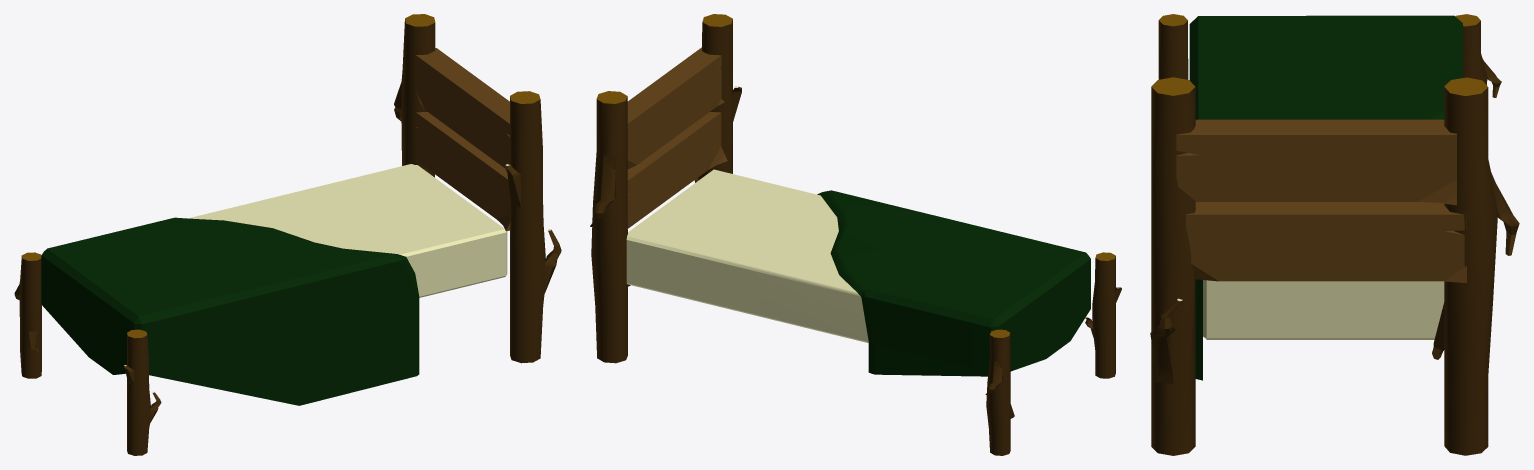
Rendered from Bed.fbx.
3 views of the same model, side by side, from view 1: azimuth 30°, elevation 25°; view 2: azimuth 150°, elevation 25°; view 3: azimuth 270°, elevation 25° (orthographic). The views are drawn at different scales.
Parts seen in each view (by area): view 1: polySurface53; view 2: polySurface53; view 3: polySurface53.
Boxes of the visible parts, x1=… form: polySurface53: x1=14, y1=14, x2=561, y2=455; polySurface53: x1=590, y1=14, x2=1121, y2=455; polySurface53: x1=1150, y1=14, x2=1519, y2=455.
Bounding box in the file's own units: 9.48 × 5.4 × 5.01.
